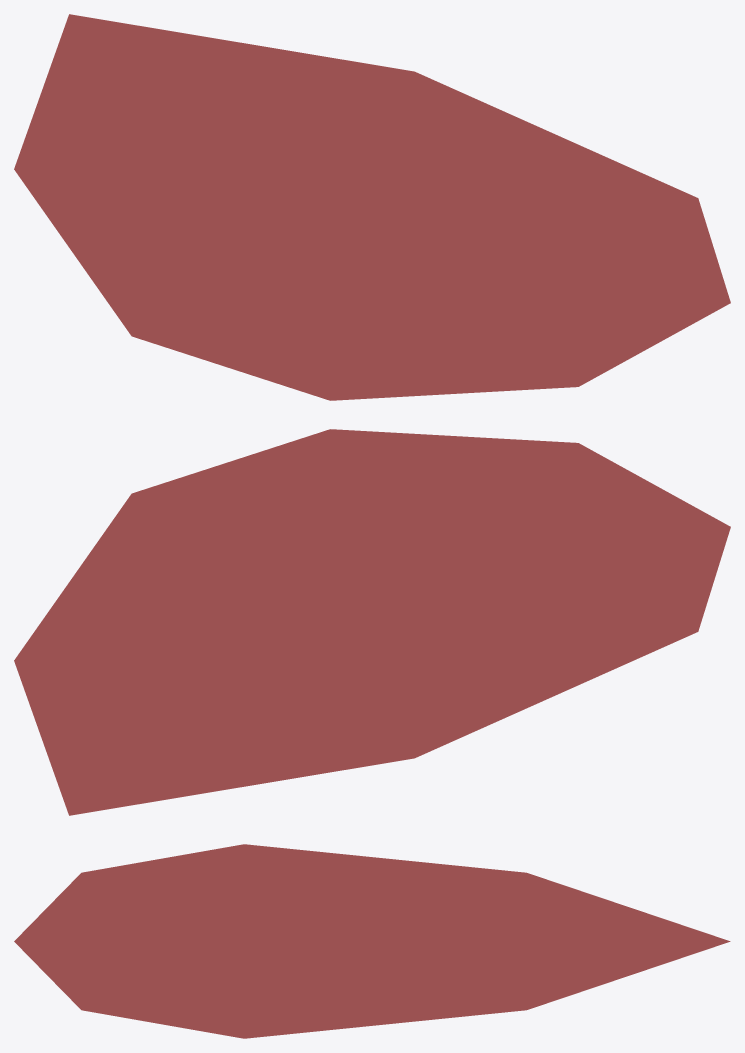
File: Char_CR_Slime_Root.FBX
The picture shows the model from 3 angles, top to bottom: view 1: azimuth 30°, elevation 25°; view 2: azimuth 150°, elevation 25°; view 3: azimuth 270°, elevation 25°; orthographic projection. The views are drawn at different scales.
Parts seen in each view (by area): view 1: Sphere007; view 2: Sphere007; view 3: Sphere007.
Part boxes in pixels (<box>): Sphere007: <box>14,14,730,400</box>; Sphere007: <box>14,429,730,815</box>; Sphere007: <box>14,844,730,1038</box>.
Bounding box in the file's own units: 25.43 × 1.86e-09 × 39.6.
